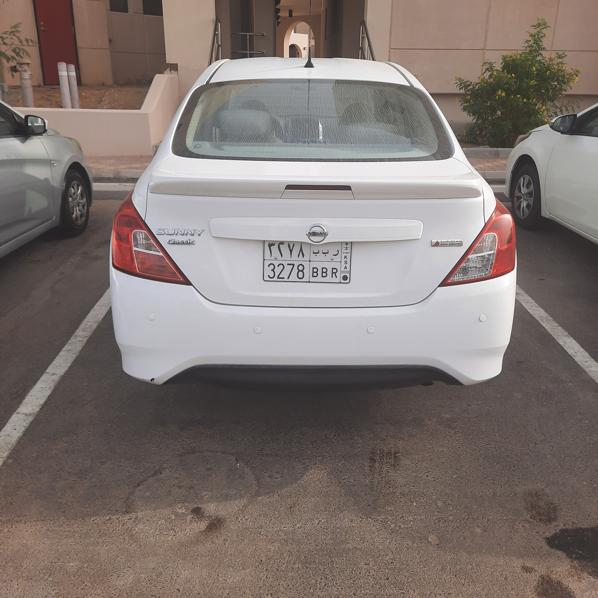numberplate: (263, 239, 351, 283)
